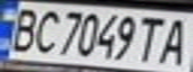0: (75, 9, 100, 58)
4: (96, 10, 121, 61)
7: (54, 7, 84, 57)
9: (112, 11, 142, 62)
A: (154, 15, 193, 66)
B: (3, 5, 45, 53)
C: (27, 6, 63, 55)
T: (133, 13, 172, 64)
